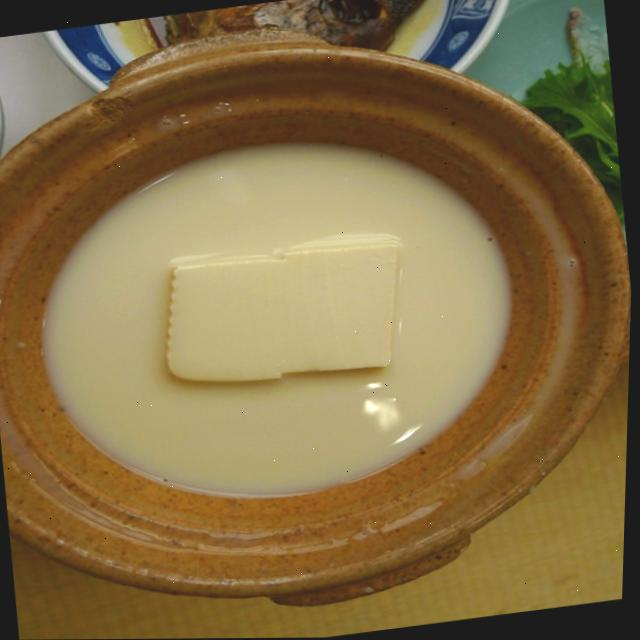豆腐料理: (0, 0, 640, 625)
